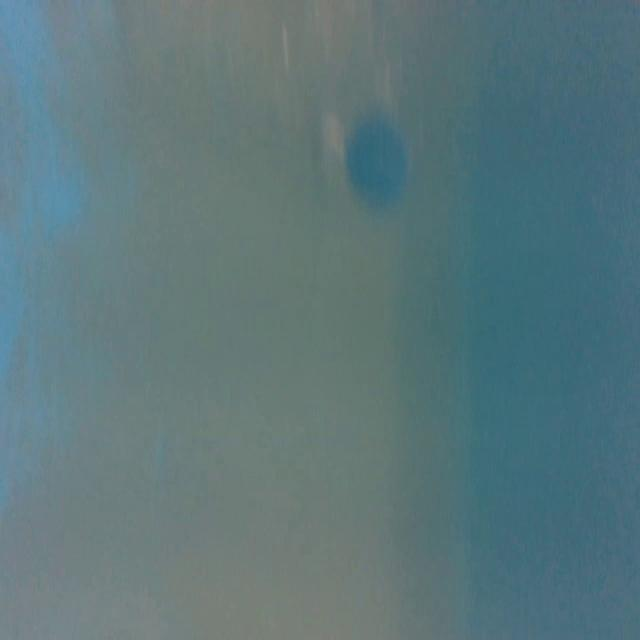plastic bottle: (284, 0, 446, 204)
